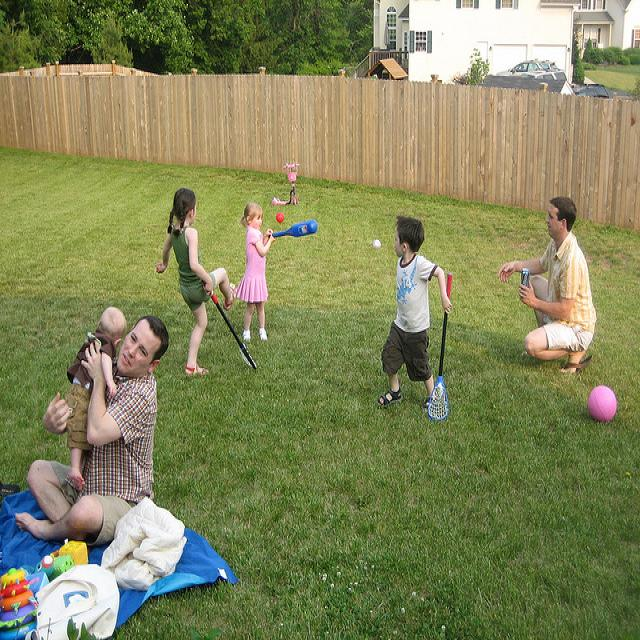Vehicle: (496, 56, 564, 77), (573, 84, 631, 99)
